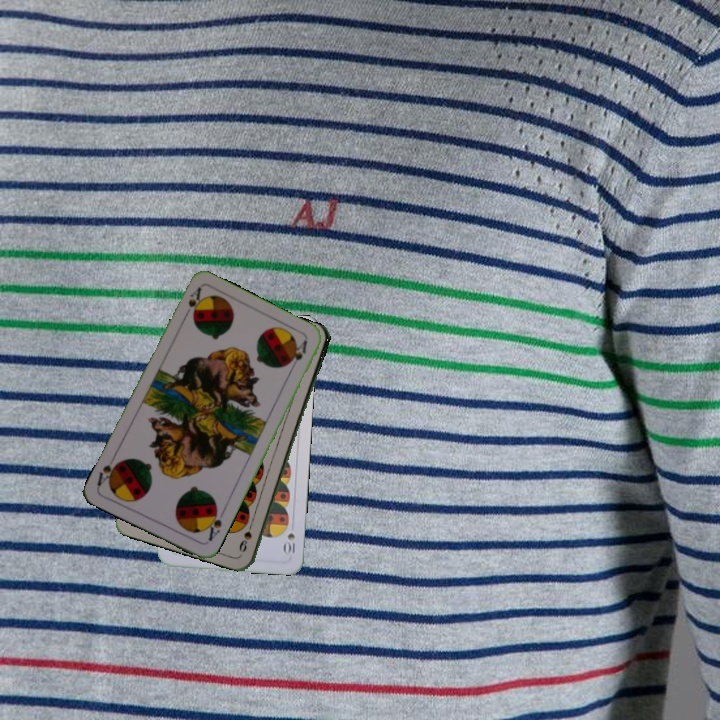S10: (280, 529, 298, 557)
S9: (236, 516, 256, 555)
SA: (201, 504, 227, 544), (180, 283, 205, 322)
